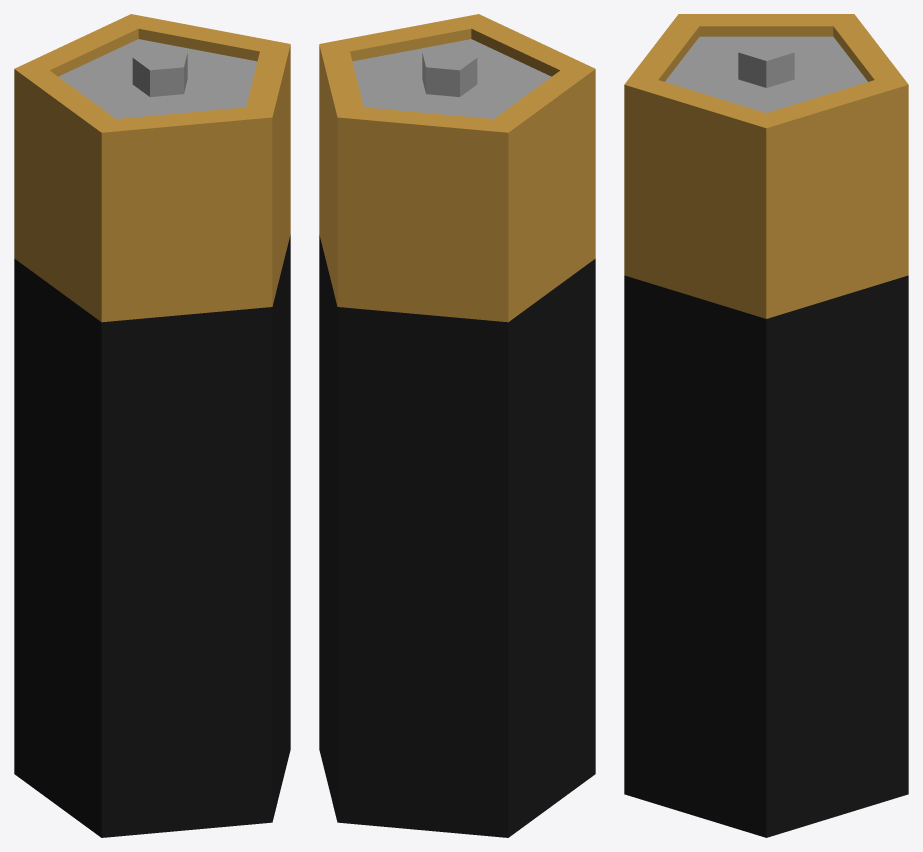
File: Battery1.FBX
3 views of the same model, side by side, from view 1: azimuth 30°, elevation 25°; view 2: azimuth 150°, elevation 25°; view 3: azimuth 270°, elevation 25° (orthographic).
Visible parts, largest first — view 1: Battery1; view 2: Battery1; view 3: Battery1.
Boxes of the visible parts, bbox=[...] form: Battery1: bbox=[14, 14, 290, 837]; Battery1: bbox=[319, 14, 595, 837]; Battery1: bbox=[624, 14, 908, 837].
Size of what is drawn, in the model's own units: 18.49 by 19.45 by 54.78.
